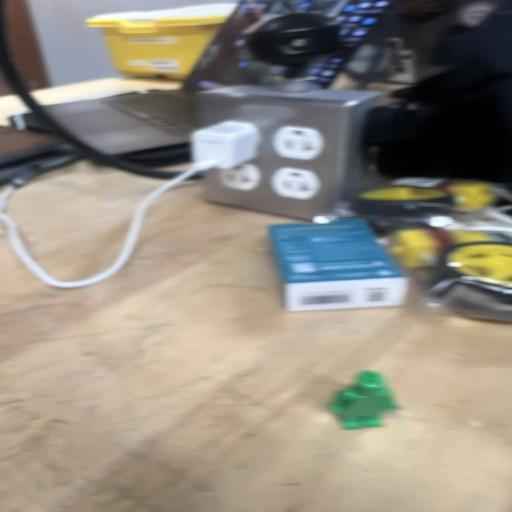green-lego-minifigure-detector: (330, 371, 399, 429)
